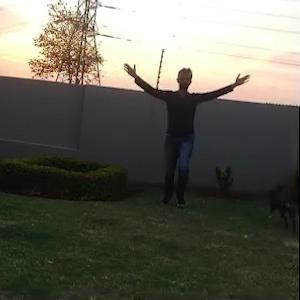takeoff: (96, 54, 239, 216)
